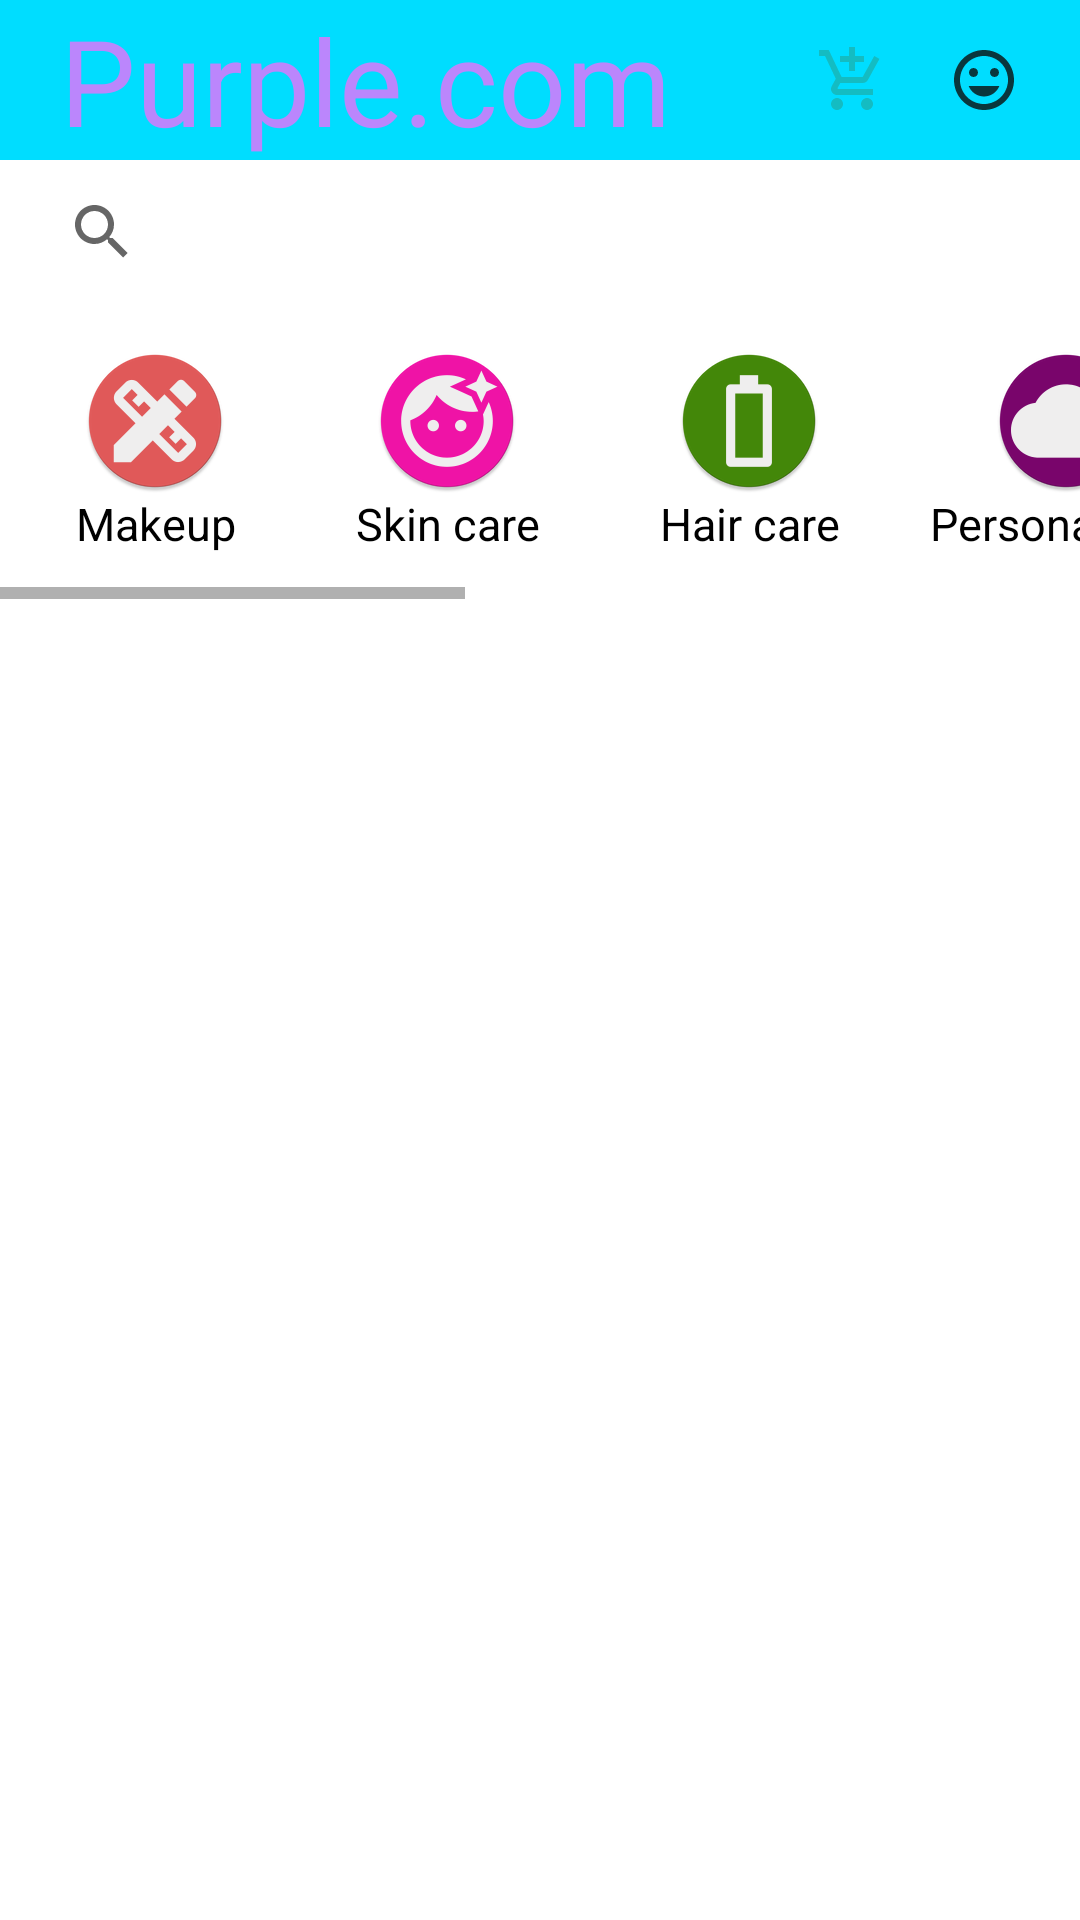

Icons on this 1080px×1920px Android screen, each with the point to tap as point (x, y):
cart: point (849, 78)
smile: point (984, 80)
